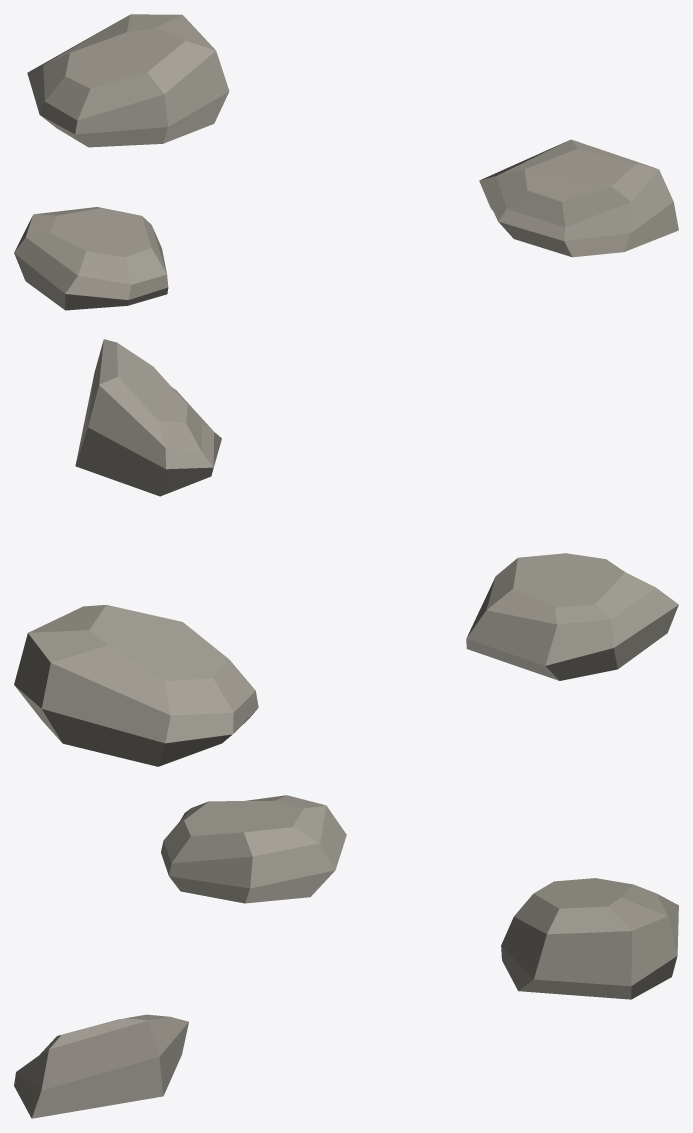
File: Pebbles.fbx
3 renders of one model, top to bottom at view 1: azimuth 30°, elevation 25°; view 2: azimuth 150°, elevation 25°; view 3: azimuth 270°, elevation 25°, orthographic. The views are drawn at different scales.
Parts seen in each view (by area): view 1: Pebbles; view 2: Pebbles; view 3: Pebbles.
Boxes of the visible parts, left/top/right/bottom form: Pebbles: left=14, top=14, right=678, bottom=310; Pebbles: left=14, top=339, right=678, bottom=766; Pebbles: left=14, top=795, right=678, bottom=1118.
Size of the model in its own units: 79.85 by 11.13 by 78.19.
